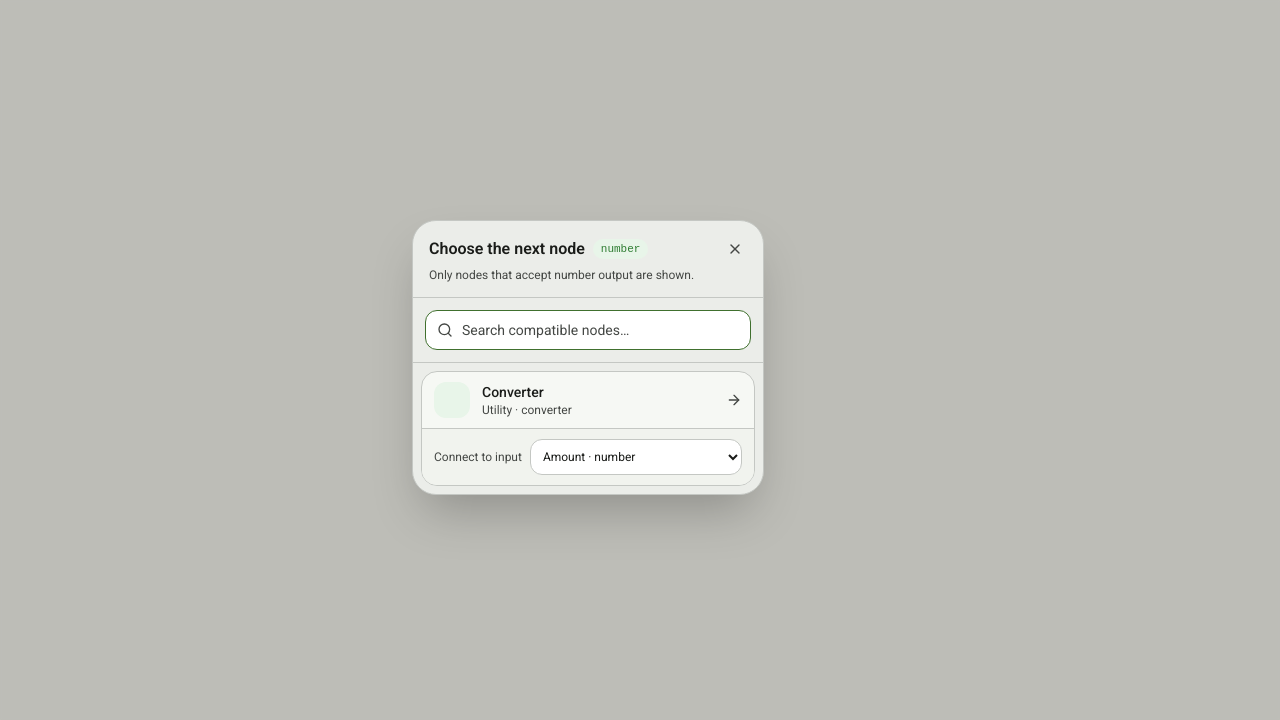
Test case: CompatibleNodePicker › searches by node type and localized category and reports empty results
The image size is (1280, 720).
Type "Utility" into the search field labelled "Search compatible nodes…" at (588, 330), box [425, 310, 751, 350]
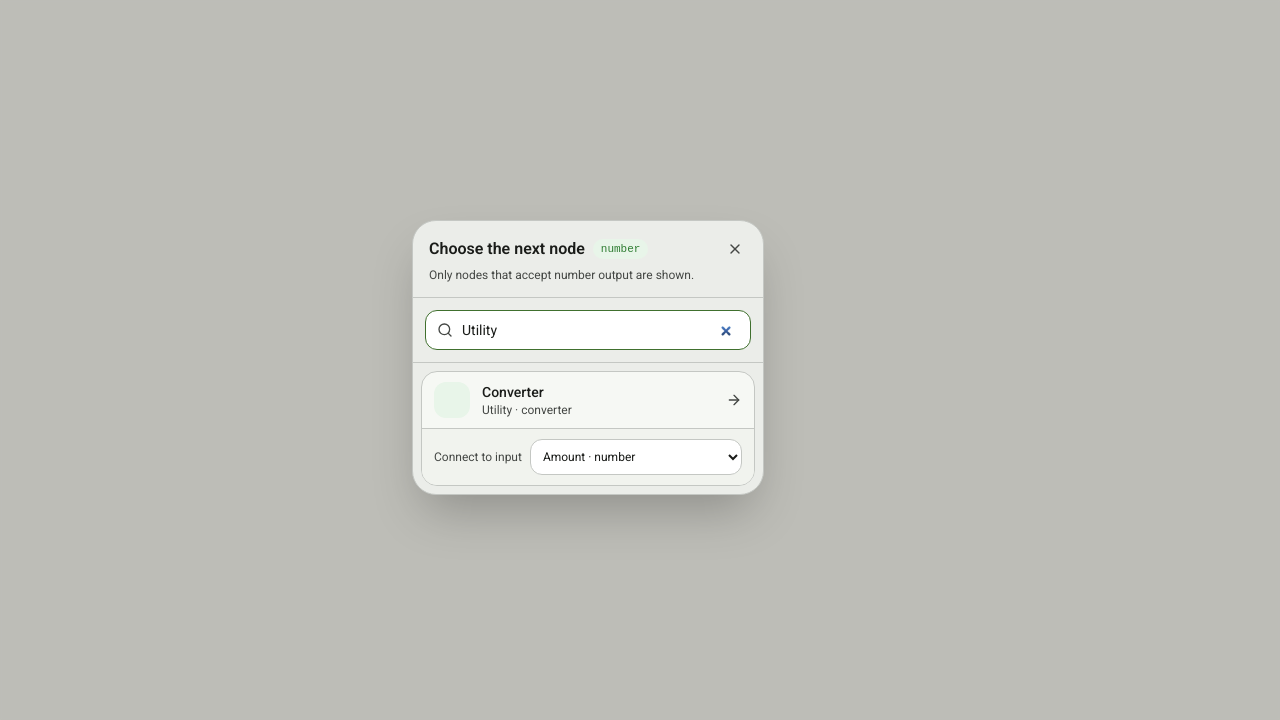
Expected: the button with aria-label "Add and connect: Converter" is shown, [422, 372, 754, 428]
Replace the text in the search field named "Search compatible nodes…" with "converter" at (588, 330), box [425, 310, 751, 350]
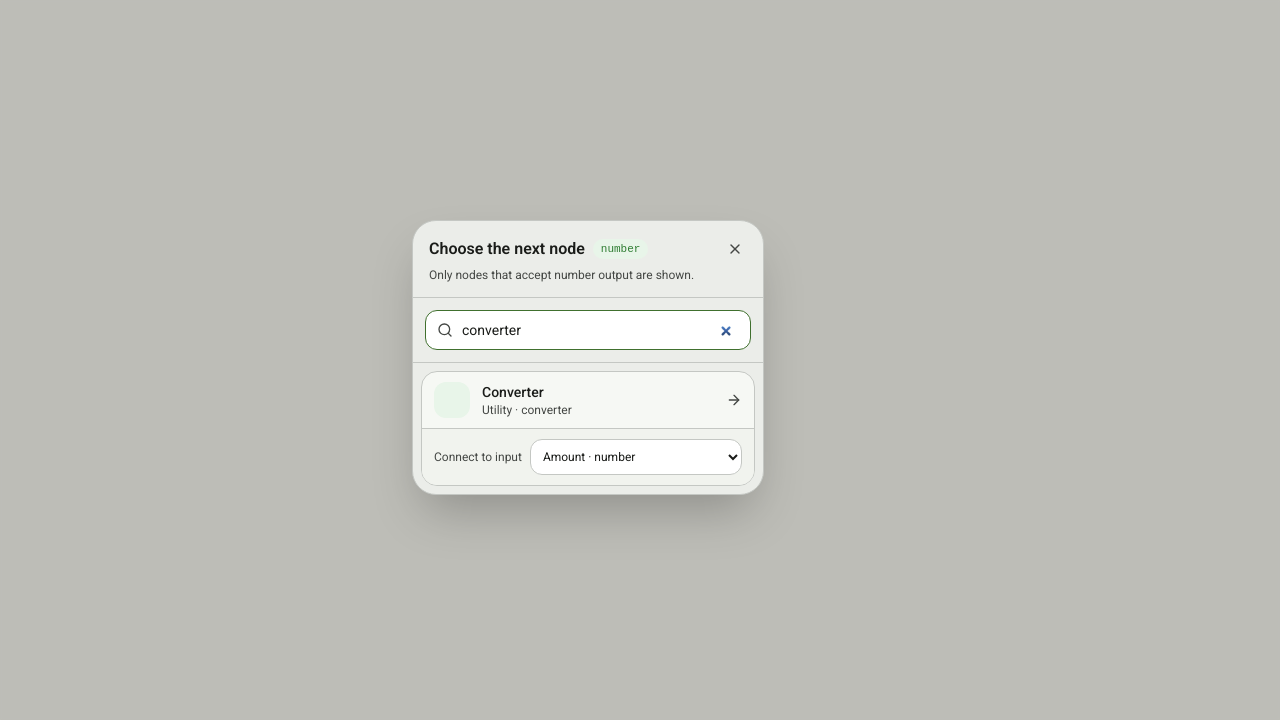
Expected: the button with aria-label "Add and connect: Converter" is shown, [422, 372, 754, 428]
Replace the text in the search field named "Search compatible nodes…" with "missing" at (588, 330), box [425, 310, 751, 350]
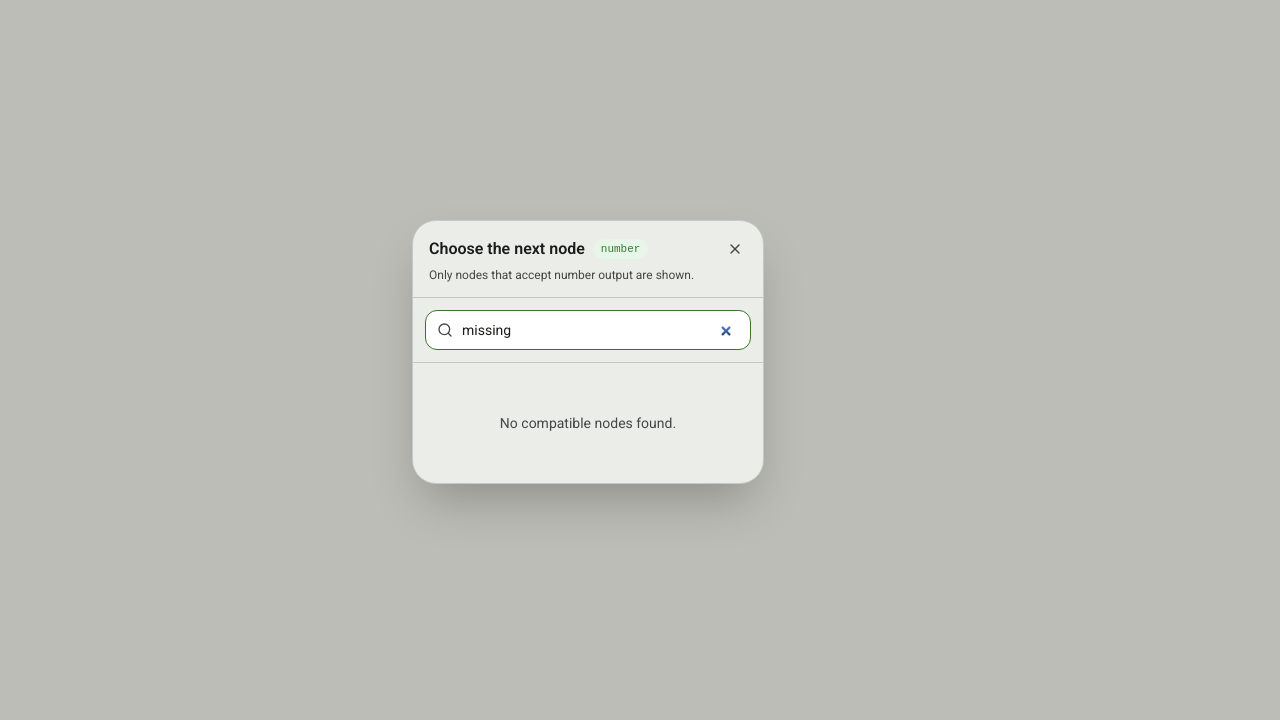
Expected: the message reads "No compatible nodes found.", [500, 415, 676, 431]
